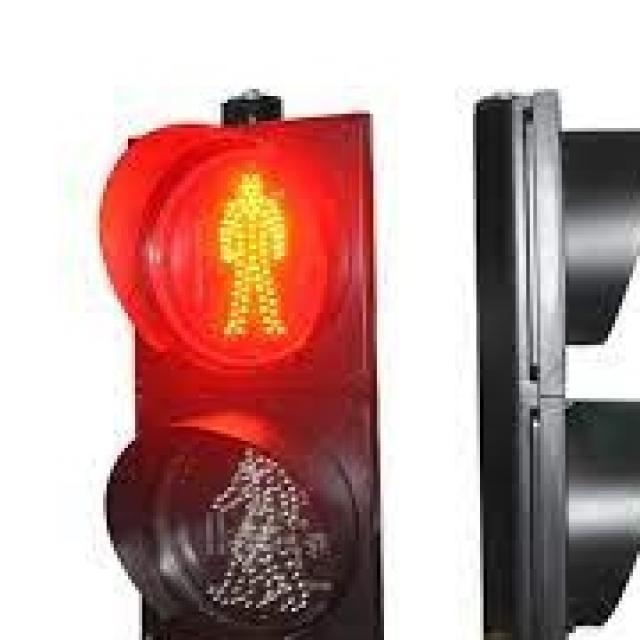red-crossing: (196, 160, 306, 334)
